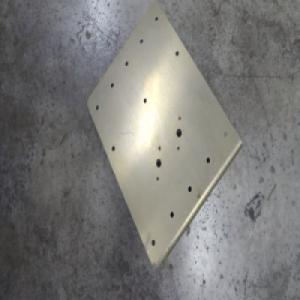MetalSheet: (84, 3, 243, 274)
